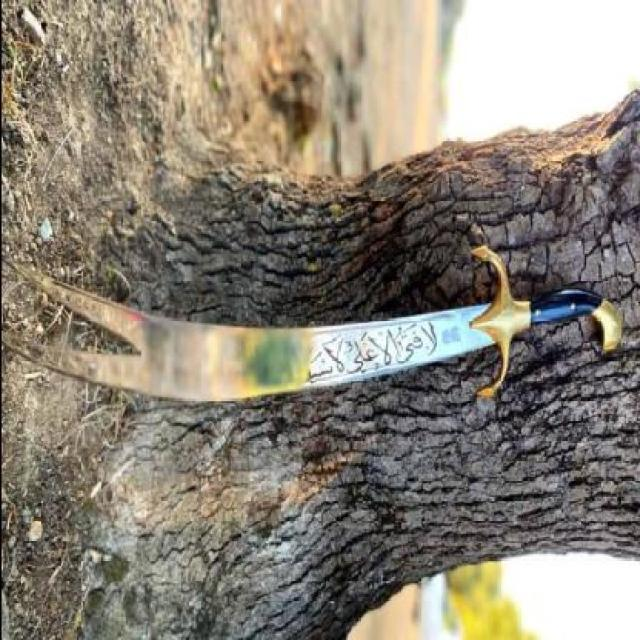weapon: (2, 243, 624, 403)
